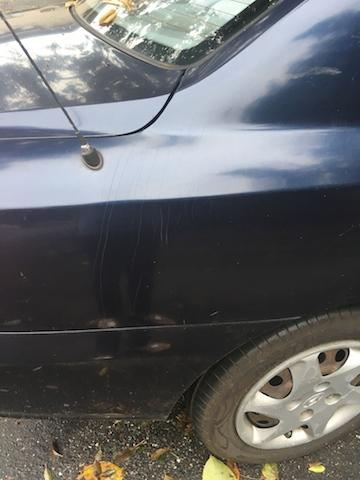scratch: (85, 133, 232, 334)
